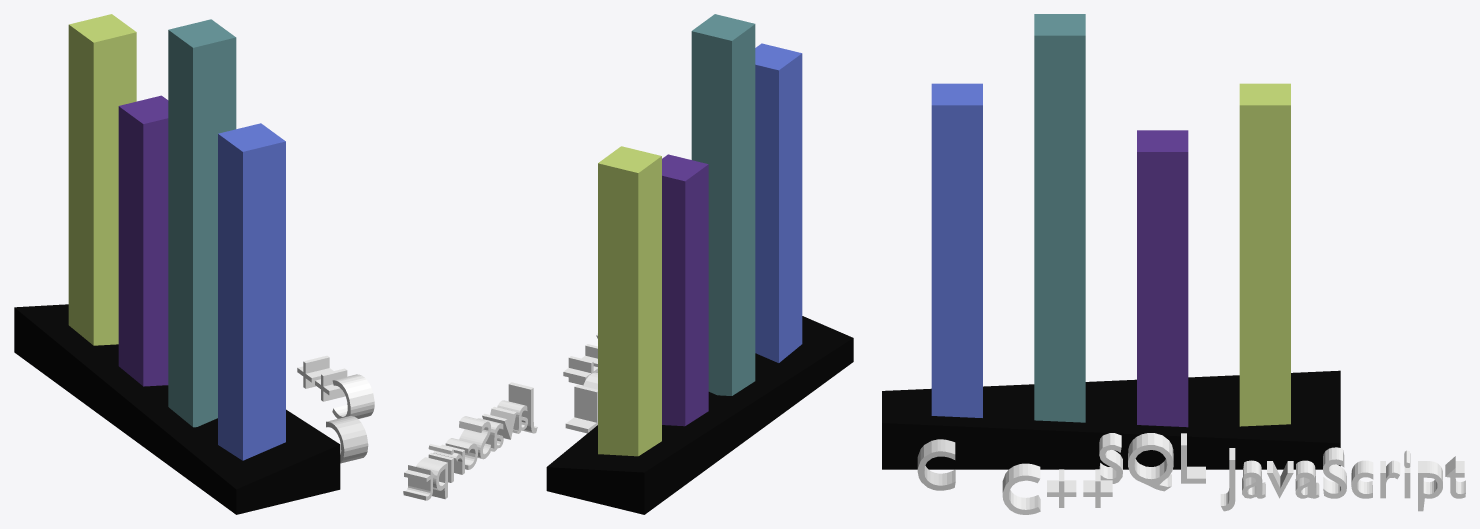
The model's file is barrasLen.glb.
The picture shows the model from 3 angles, left to right: view 1: azimuth 30°, elevation 25°; view 2: azimuth 150°, elevation 25°; view 3: azimuth 270°, elevation 25°; orthographic projection. The views are drawn at different scales.
Visible parts, largest first — view 1: Cube.007, Text.001, Text; view 2: Cube.007, Text.002, Text.003, Text.001; view 3: Cube.007, Text.002, Text.003, Text.001, Text.
Part boxes in pixels (<box>): Cube.007: <box>14,14,340,514</box>; Text.001: <box>297,355,374,418</box>; Text: <box>326,416,368,463</box>; Cube.007: <box>546,14,853,514</box>; Text.002: <box>403,382,537,500</box>; Text.003: <box>565,372,597,433</box>; Text.001: <box>563,333,597,385</box>; Cube.007: <box>882,14,1340,469</box>; Text.002: <box>1220,447,1465,511</box>; Text.003: <box>1099,433,1205,491</box>; Text.001: <box>1002,463,1112,514</box>; Text: <box>917,439,955,490</box>.
Size of the model in its own units: 9.14 by 18 by 22.76.
